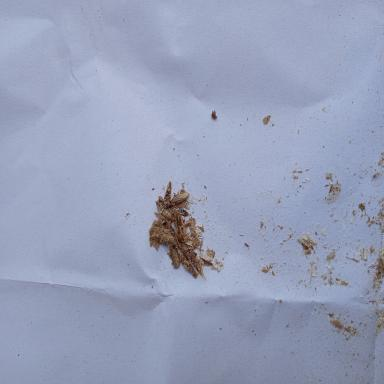pbw: (175, 209, 187, 241), (180, 256, 197, 278), (168, 191, 188, 208), (163, 178, 174, 206), (154, 212, 166, 222), (155, 200, 163, 214), (158, 194, 164, 204)
